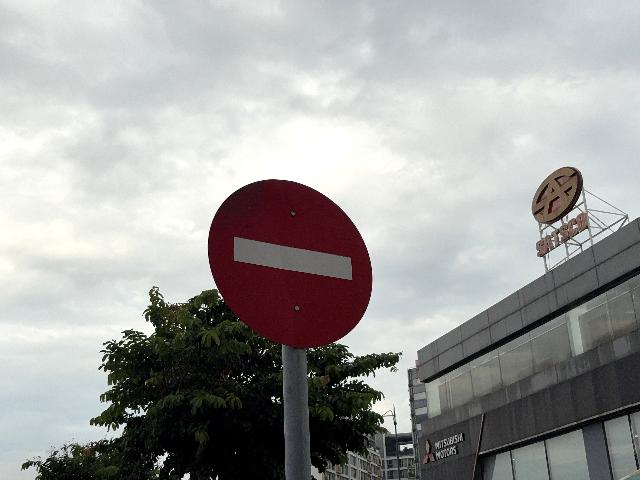cam-di-nguoc-chieu: (207, 178, 373, 349)
